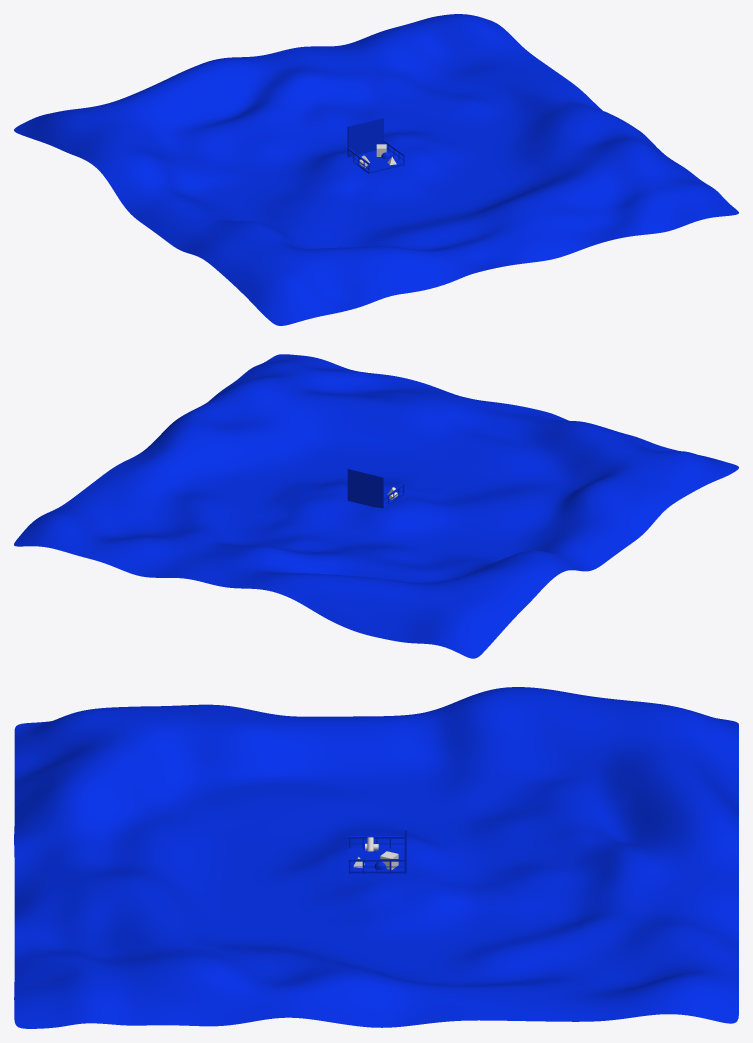
3 views of the same model, one above another, from view 1: azimuth 30°, elevation 25°; view 2: azimuth 150°, elevation 25°; view 3: azimuth 270°, elevation 25° (orthographic). The views are drawn at different scales.
Visible parts, largest first — view 1: Plane.001; view 2: Plane.001; view 3: Plane.001.
Boxes of the visible parts, x1,y1,x2,y2 form: Plane.001: [14, 14, 738, 325]; Plane.001: [14, 354, 738, 658]; Plane.001: [14, 687, 738, 1028].
Size of the model in its own units: 107 by 9.45 by 107.
